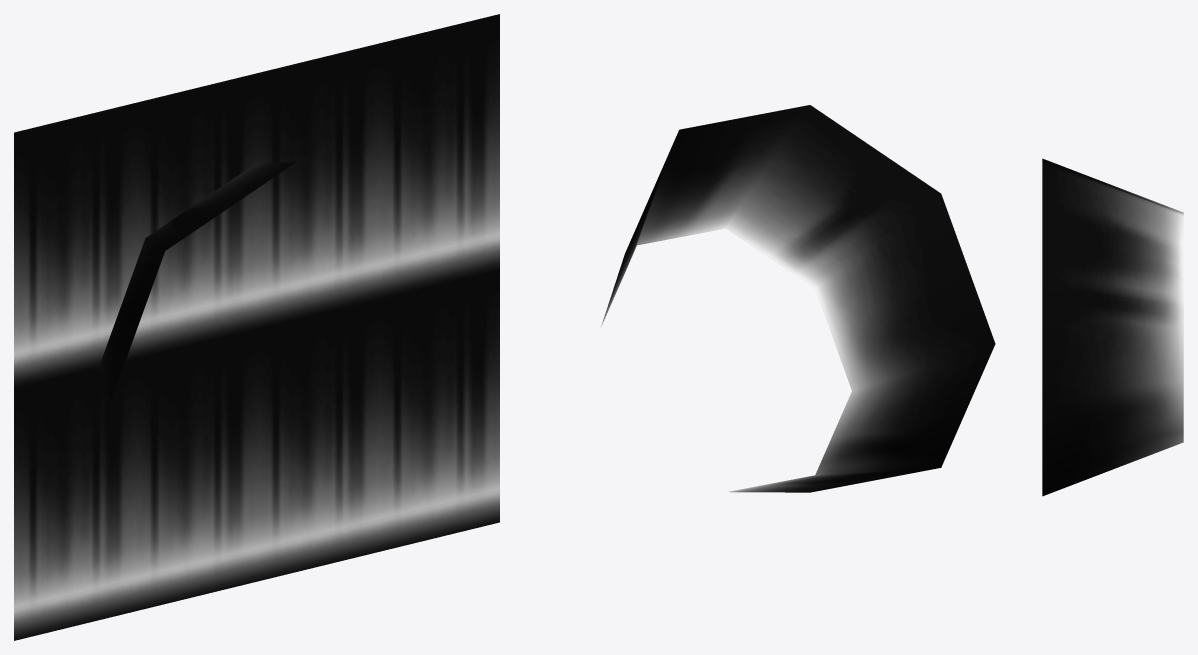
3 views of the same model, side by side, from view 1: azimuth 30°, elevation 25°; view 2: azimuth 150°, elevation 25°; view 3: azimuth 270°, elevation 25° (orthographic). The views are drawn at different scales.
Parts seen in each view (by area): view 1: artifact_piece.model-MeshNodes["mesh_ring"], artifact_piece.model-MeshNodes["classpad_glowCylinder"]; view 2: artifact_piece.model-MeshNodes["classpad_glowCylinder"]; view 3: artifact_piece.model-MeshNodes["classpad_glowCylinder"].
Boxes of the visible parts, bbox=[...] form: artifact_piece.model-MeshNodes["mesh_ring"]: bbox=[14, 14, 499, 640]; artifact_piece.model-MeshNodes["classpad_glowCylinder"]: bbox=[99, 162, 295, 400]; artifact_piece.model-MeshNodes["classpad_glowCylinder"]: bbox=[601, 105, 995, 492]; artifact_piece.model-MeshNodes["classpad_glowCylinder"]: bbox=[1042, 158, 1183, 496].
Bounding box in the file's own units: 1 × 1 × 0.3.
Materials: 1 (1 with a texture image).
